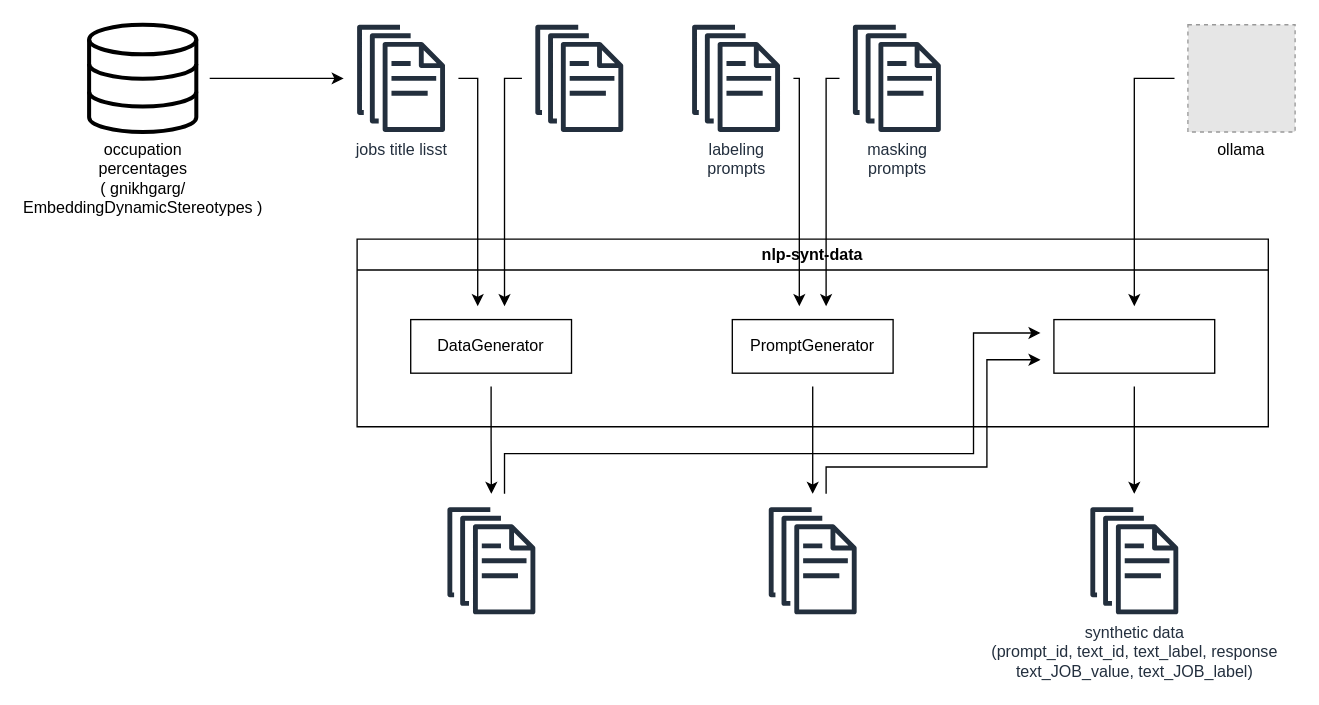
Some shapes in this 1319 by 705 pixel diagram are drawn without their labels. Grey dashed boxes stand in for pictures. Here are the shapes that lost their labels. From the top down, the centre of each, then its label:
(x=579, y=77): templates (singular, plural, other)
(x=1134, y=345): ResponseGenerator
(x=491, y=560): data (id, text, text_label, values, labels)
(x=812, y=560): prompts (id, prompt)
